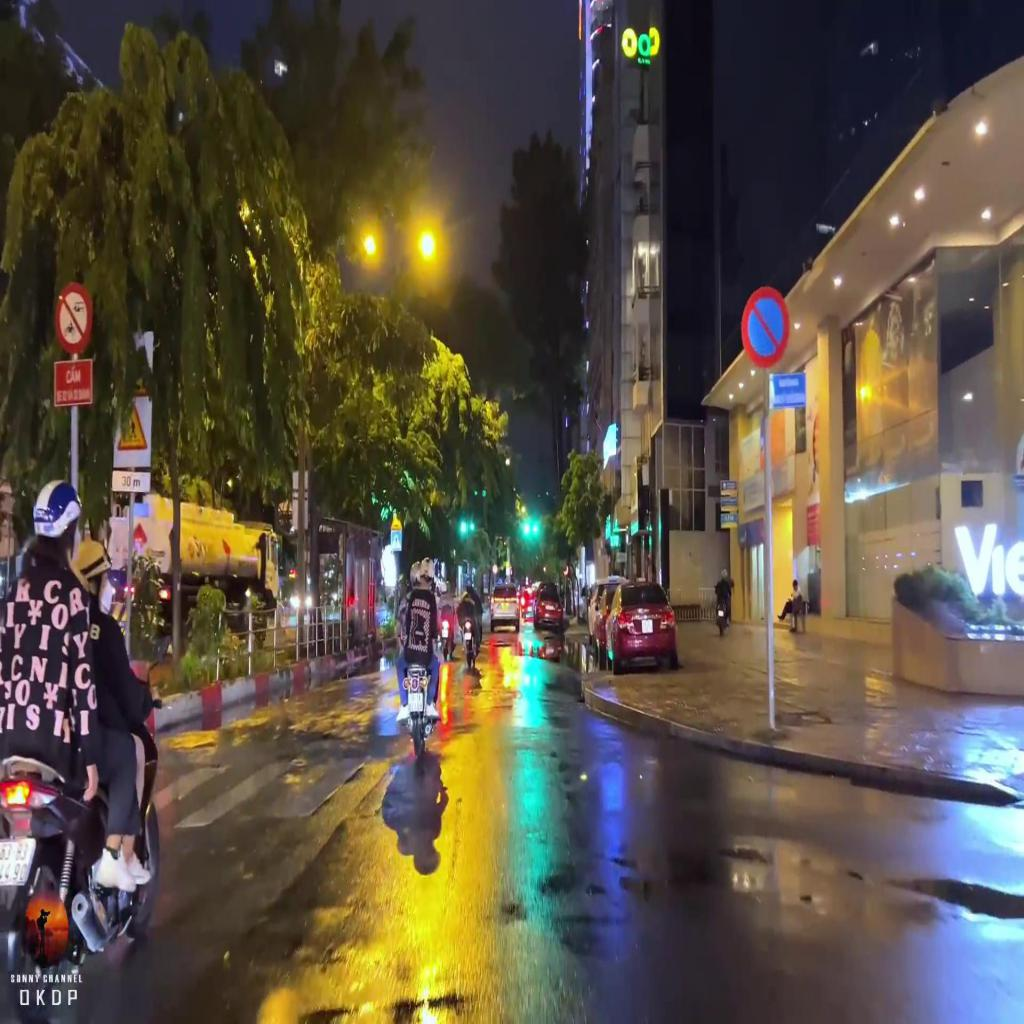cam_do_xe: (740, 284, 789, 368)
cam_xe_2_banh_va_xe_3_banh_co_dong_co: (56, 282, 93, 354)
chu_y_nguoi_di_bo_cat_ngang: (116, 399, 147, 453)
duong_co_o_ga: (390, 509, 403, 531)
duong_nguoi_di_bo_sang_ngang: (391, 531, 402, 551)
khac: (112, 473, 151, 494)
